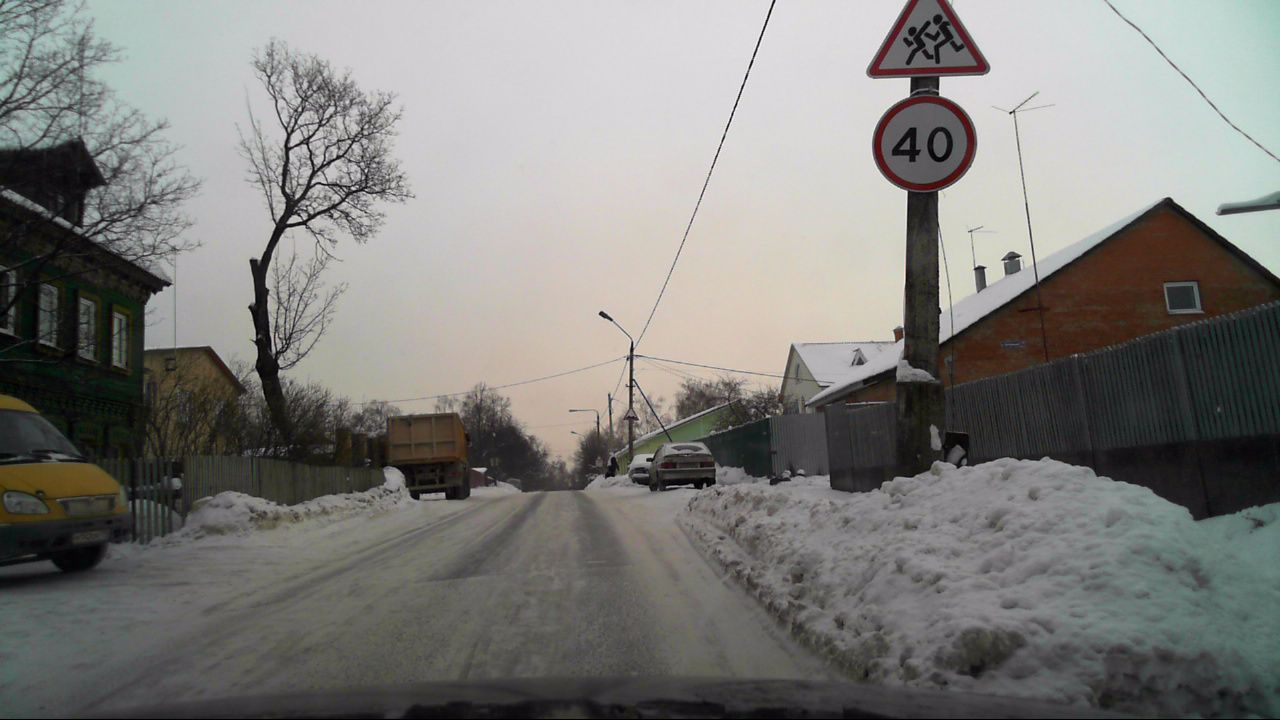speed_warning_40: (871, 94, 978, 192)
